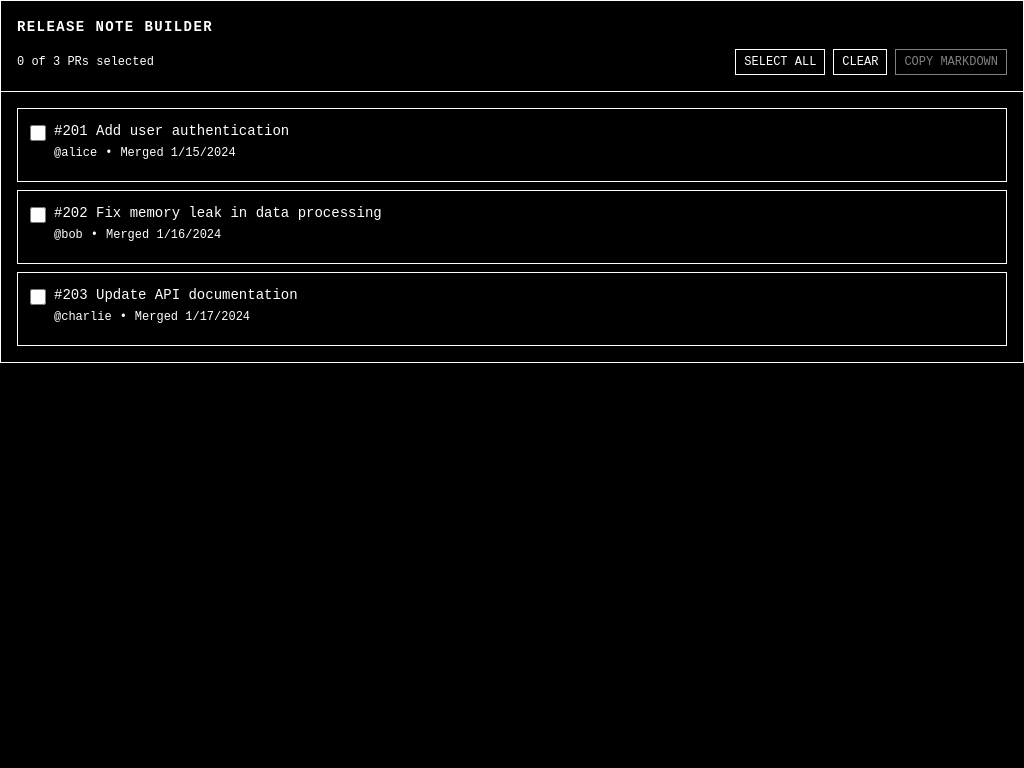
ReleaseNoteBuilder › uses default version placeholder when not provided
Click the checkbox next to "201". click: click(38, 133)
box: top-left (30, 125), bottom-right (46, 141)
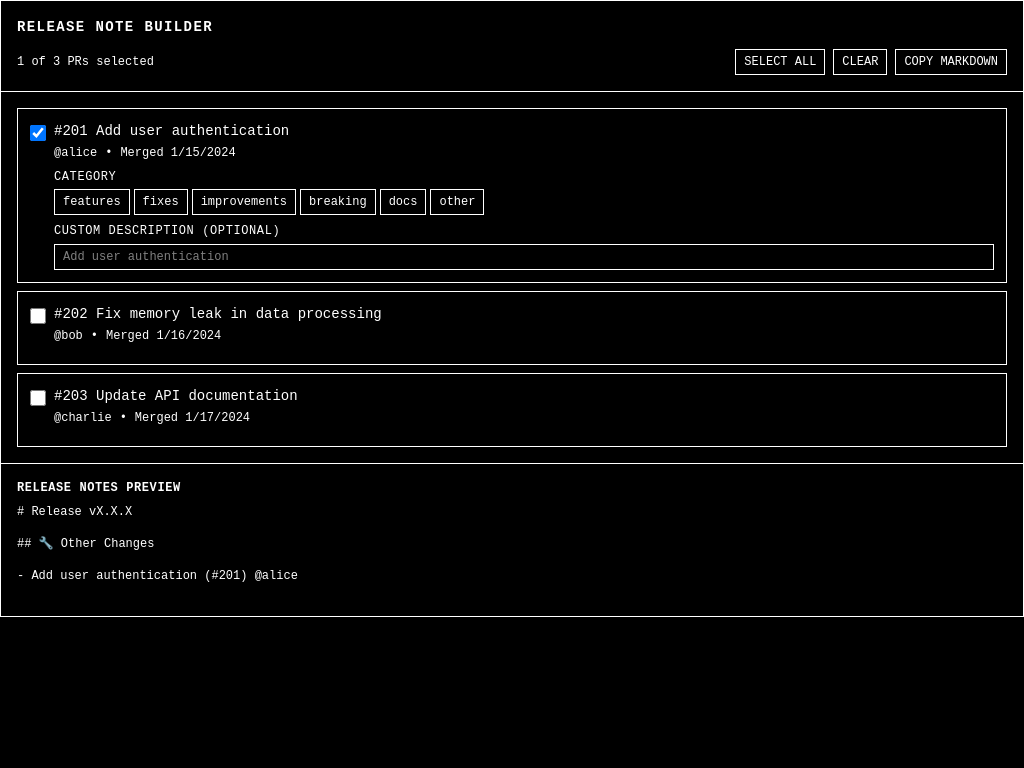
expect the text "# Release vX.X.X" is shown: met, box top-left (17, 505), bottom-right (298, 583)
